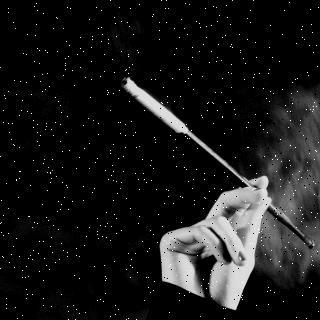smoke: (250, 94, 320, 270)
